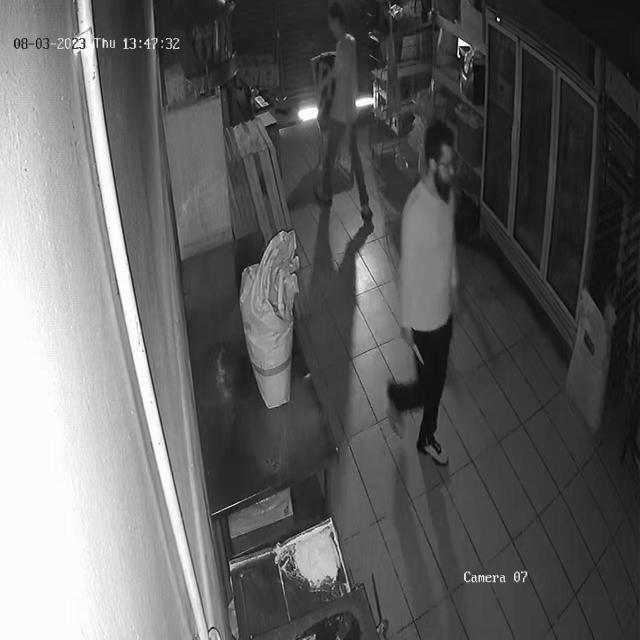Knife: (397, 319, 432, 373)
